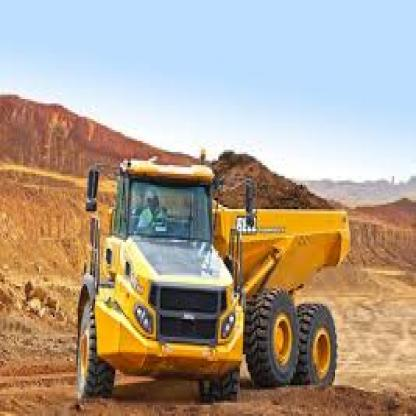dump_truck: (57, 123, 370, 414)
